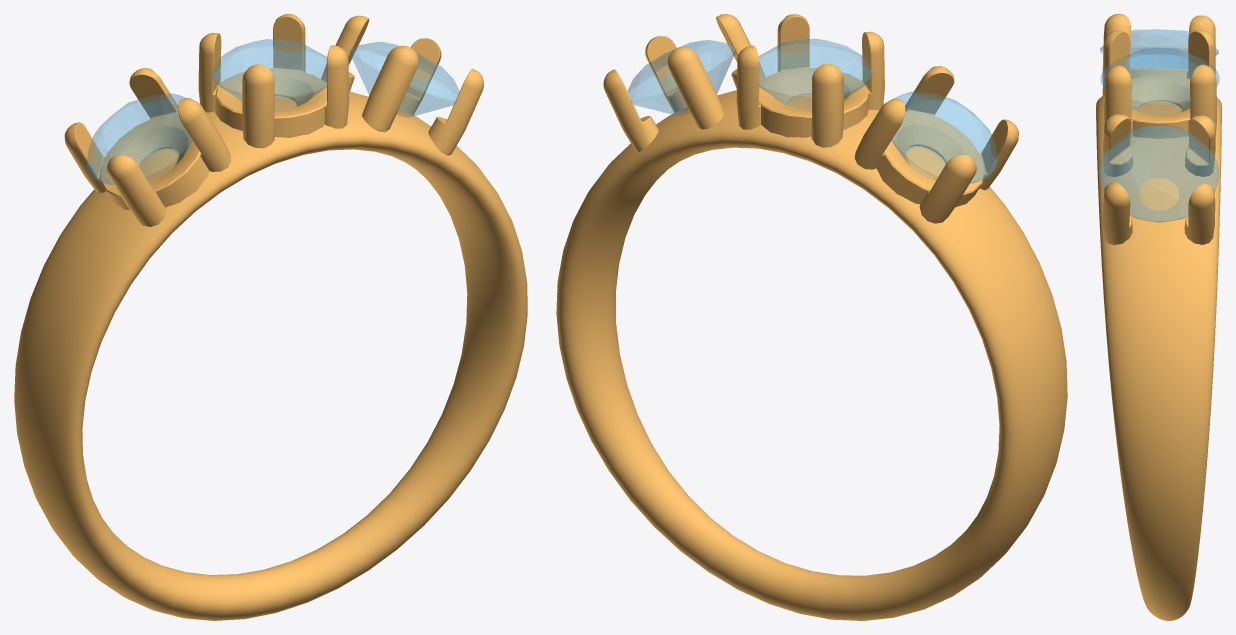
File: ring.glb
3 views of the same model, side by side, from view 1: azimuth 30°, elevation 25°; view 2: azimuth 150°, elevation 25°; view 3: azimuth 270°, elevation 25° (orthographic). The views are drawn at different scales.
Visible parts, largest first — view 1: Torus; view 2: Torus; view 3: Torus.
Part boxes in pixels (left/top/right/bottom): Torus: left=14, top=14, right=527, bottom=620; Torus: left=556, top=14, right=1067, bottom=620; Torus: left=1096, top=14, right=1221, bottom=620.
Size of the model in its own units: 2.54 by 2.86 by 0.5956.
